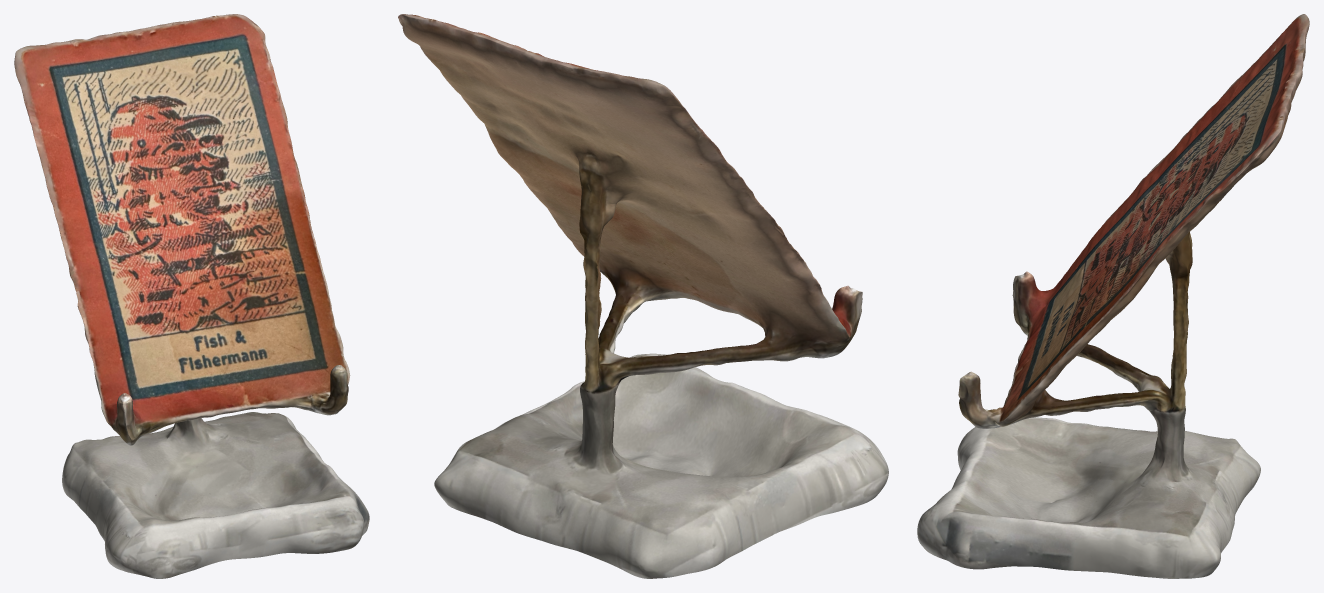
Rendered from victorian-cards.glb.
3 views of the same model, side by side, from view 1: azimuth 30°, elevation 25°; view 2: azimuth 150°, elevation 25°; view 3: azimuth 270°, elevation 25° (orthographic). The views are drawn at different scales.
Visible parts, largest first — view 1: 3DModel_Custom; view 2: 3DModel_Custom; view 3: 3DModel_Custom.
Boxes of the visible parts, <box> form: 3DModel_Custom: <box>14,14,369,578</box>; 3DModel_Custom: <box>398,14,888,578</box>; 3DModel_Custom: <box>917,14,1309,578</box>.
Size of the model in its own units: 0.452 by 0.6702 by 0.5284.
1 material, 1 textured.
